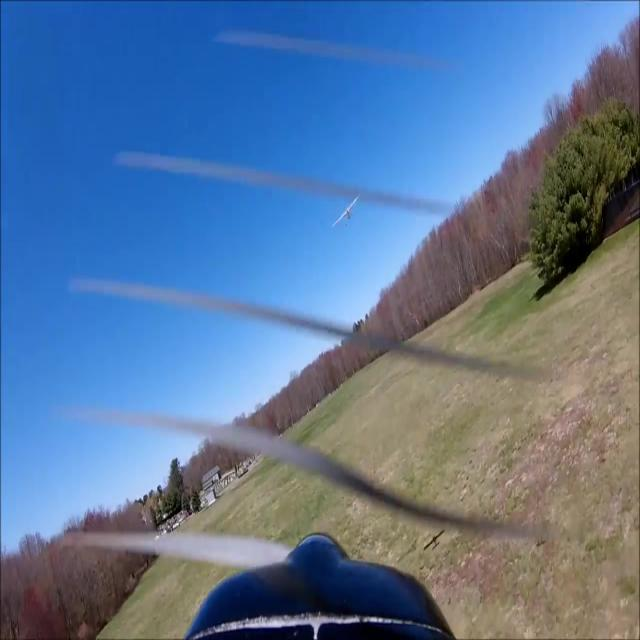iha: (331, 191, 361, 228)
